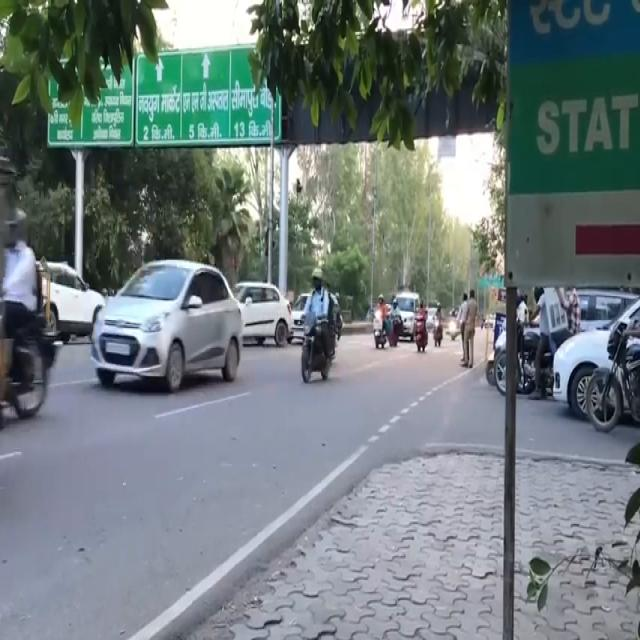MOTORCYCLE: (302, 306, 344, 383), (412, 314, 429, 354), (374, 306, 385, 351), (433, 315, 443, 350)
